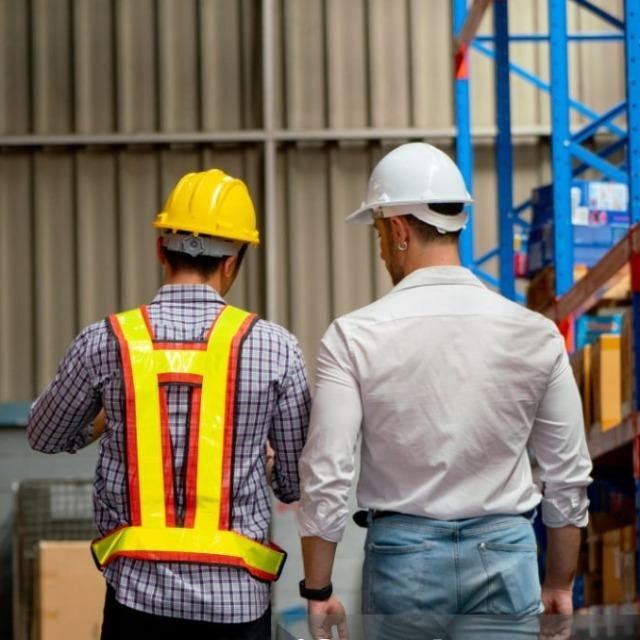Con_Casco: (346, 144, 476, 276), (151, 167, 260, 289)
Con_Chaleco: (91, 298, 301, 577)
Sin_Chaleco: (323, 286, 567, 524)
